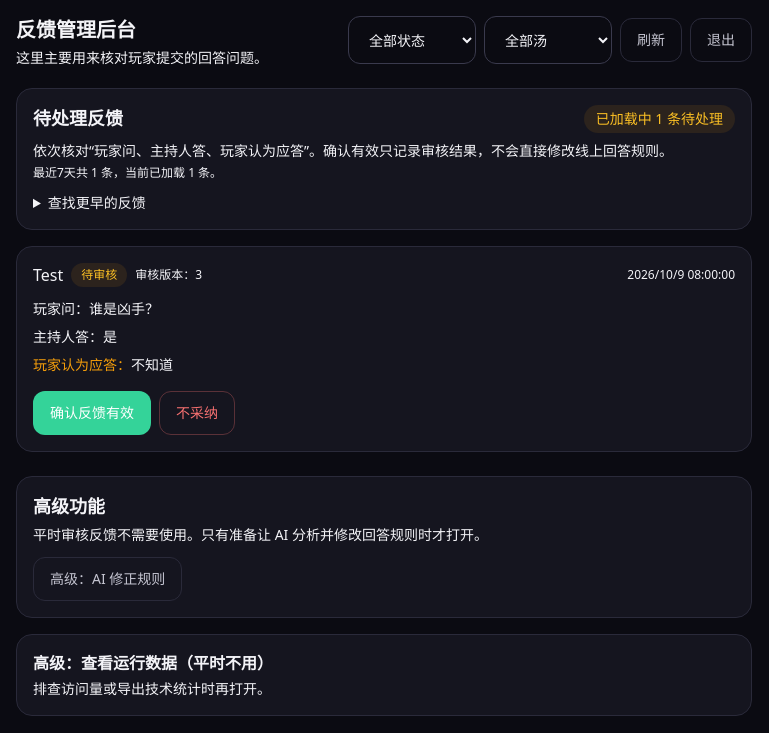
Test case: late old-credential review cannot replace a newer credential row
Step 1. Click the button "确认反馈有效" → (92, 413), box [33,391,151,435]
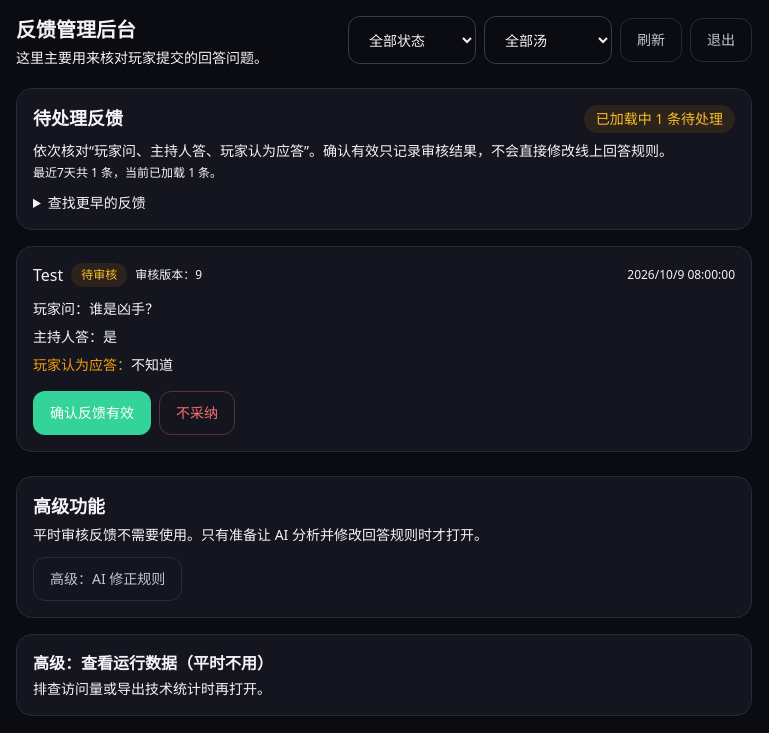
Result: the text "审核版本：9" is shown at [135,267,202,283]
